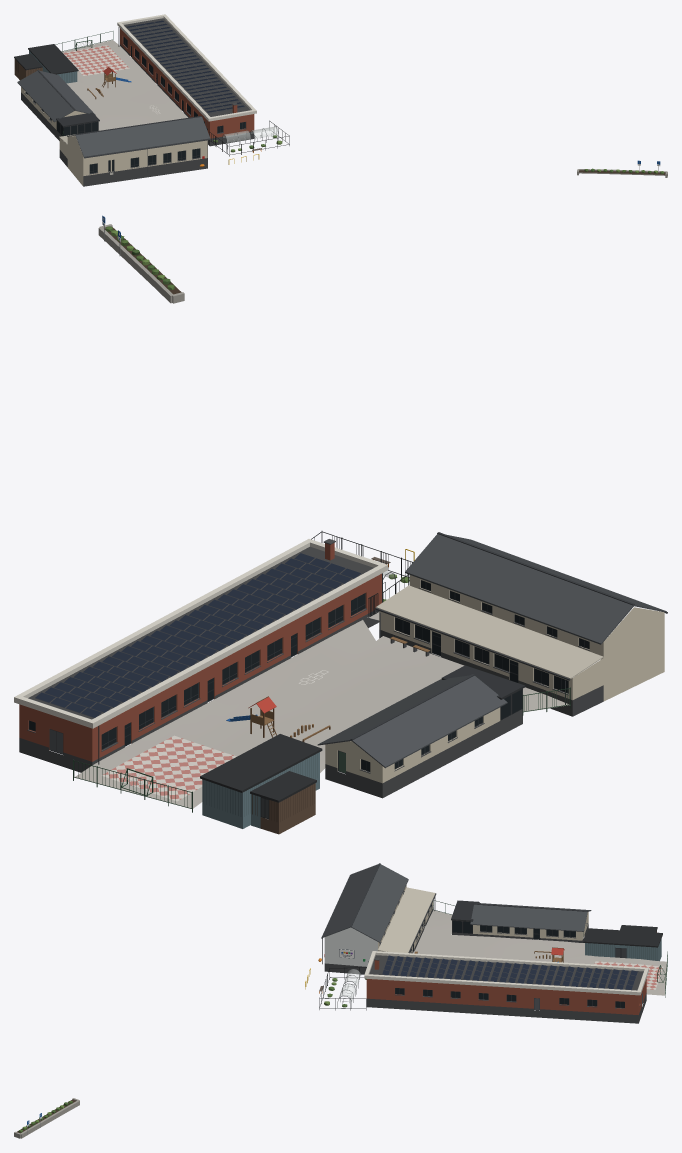
Rendered from school.glb.
3 views of the same model, one above another, from view 1: azimuth 30°, elevation 25°; view 2: azimuth 150°, elevation 25°; view 3: azimuth 270°, elevation 25° (orthographic). The views are drawn at different scales.
Visible parts, largest first — view 1: school_fittings, school_roof, school_yard, school_render, school_dark, school_brick, school_glass, school_clear, school_stone; view 2: school_fittings, school_yard, school_roof, school_render, school_brick, school_dark, school_glass, school_stone; view 3: school_fittings, school_roof, school_brick, school_yard, school_dark, school_siding, school_glass, school_render, school_stone.
Part boxes in pixels (x1=…): school_fittings: x1=14, y1=14, x2=665, y2=174; school_roof: x1=17, y1=70, x2=210, y2=157; school_yard: x1=62, y1=40, x2=187, y2=146; school_render: x1=21, y1=87, x2=207, y2=186; school_dark: x1=21, y1=44, x2=254, y2=186; school_brick: x1=120, y1=28, x2=254, y2=138; school_glass: x1=25, y1=37, x2=245, y2=173; school_clear: x1=223, y1=126, x2=277, y2=142; school_stone: x1=577, y1=169, x2=667, y2=177; school_fittings: x1=14, y1=215, x2=667, y2=834; school_yard: x1=75, y1=612, x2=569, y2=808; school_roof: x1=317, y1=534, x2=666, y2=768; school_render: x1=325, y1=575, x2=664, y2=783; school_brick: x1=19, y1=543, x2=381, y2=761; school_dark: x1=19, y1=539, x2=603, y2=798; school_glass: x1=29, y1=580, x2=589, y2=771; school_stone: x1=98, y1=224, x2=184, y2=303; school_fittings: x1=17, y1=863, x2=667, y2=1134; school_roof: x1=322, y1=864, x2=591, y2=942; school_brick: x1=366, y1=960, x2=646, y2=1014; school_yard: x1=413, y1=910, x2=666, y2=995; school_dark: x1=324, y1=891, x2=646, y2=1023; school_siding: x1=324, y1=927, x2=377, y2=966; school_glass: x1=395, y1=904, x2=624, y2=1007; school_render: x1=378, y1=885, x2=588, y2=953; school_stone: x1=14, y1=1098, x2=79, y2=1138.
Size of the model in its own units: 91.63 by 8.84 by 104.
